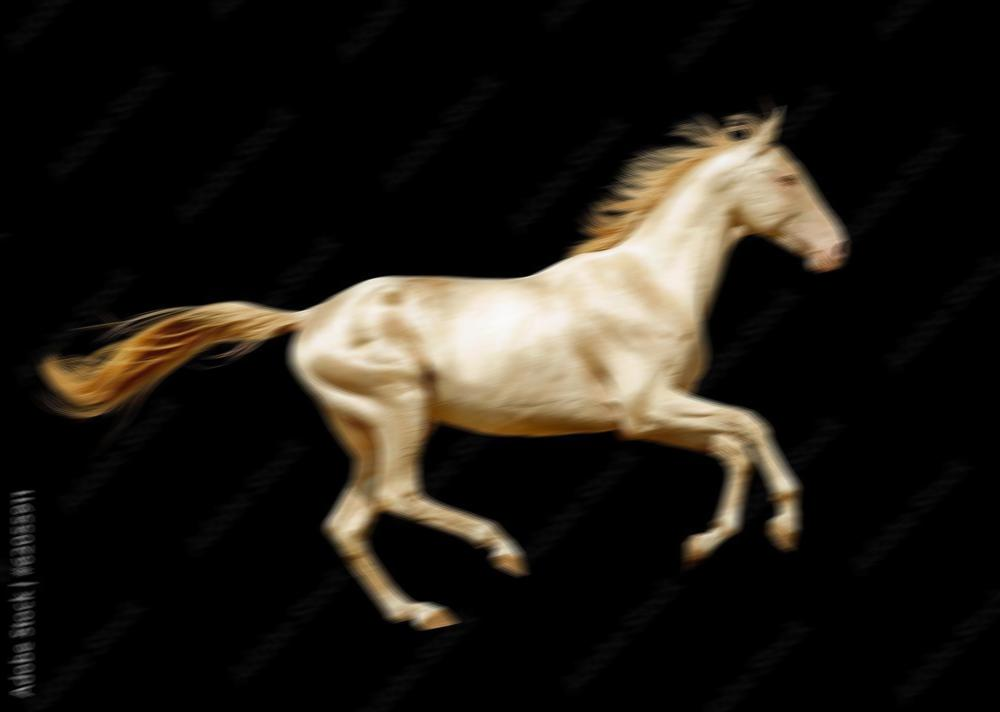horse: (31, 97, 868, 640)
